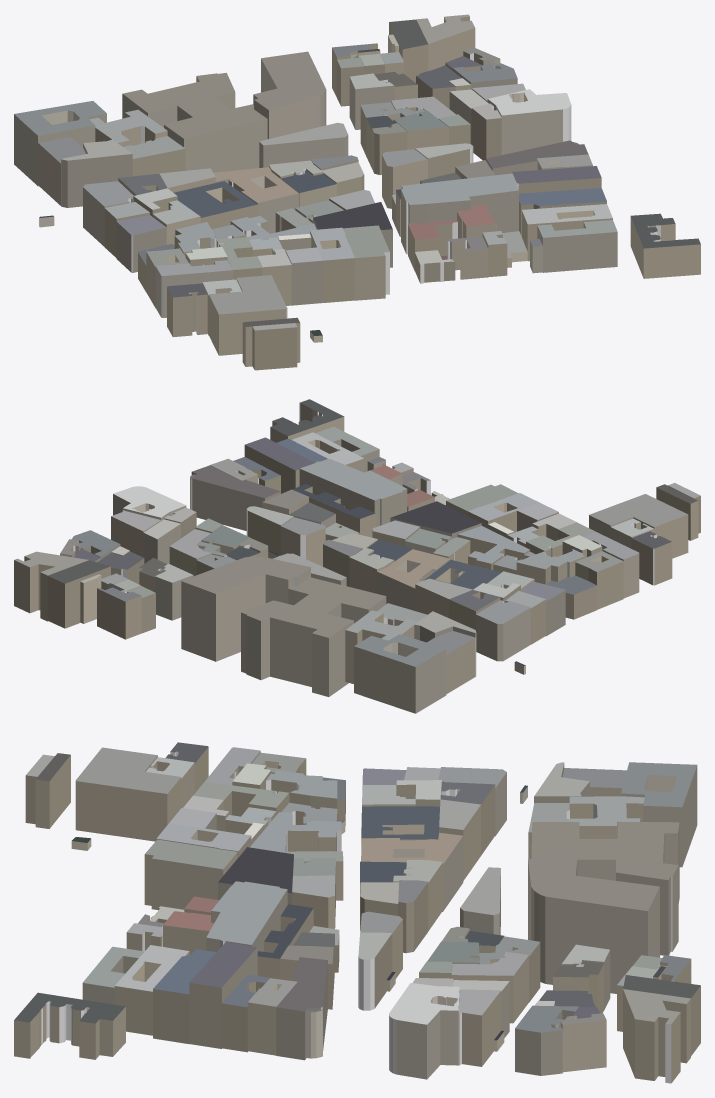
The picture shows the model from 3 angles, top to bottom: view 1: azimuth 30°, elevation 25°; view 2: azimuth 150°, elevation 25°; view 3: azimuth 270°, elevation 25°; orthographic projection. The views are drawn at different scales.
Visible parts, largest first — view 1: tuile; view 2: tuile; view 3: tuile.
Boxes of the visible parts, bbox=[...] form: tuile: bbox=[14, 14, 700, 370]; tuile: bbox=[14, 399, 700, 713]; tuile: bbox=[14, 742, 700, 1083].
Size of the model in its own units: 271 by 37.85 by 269.
